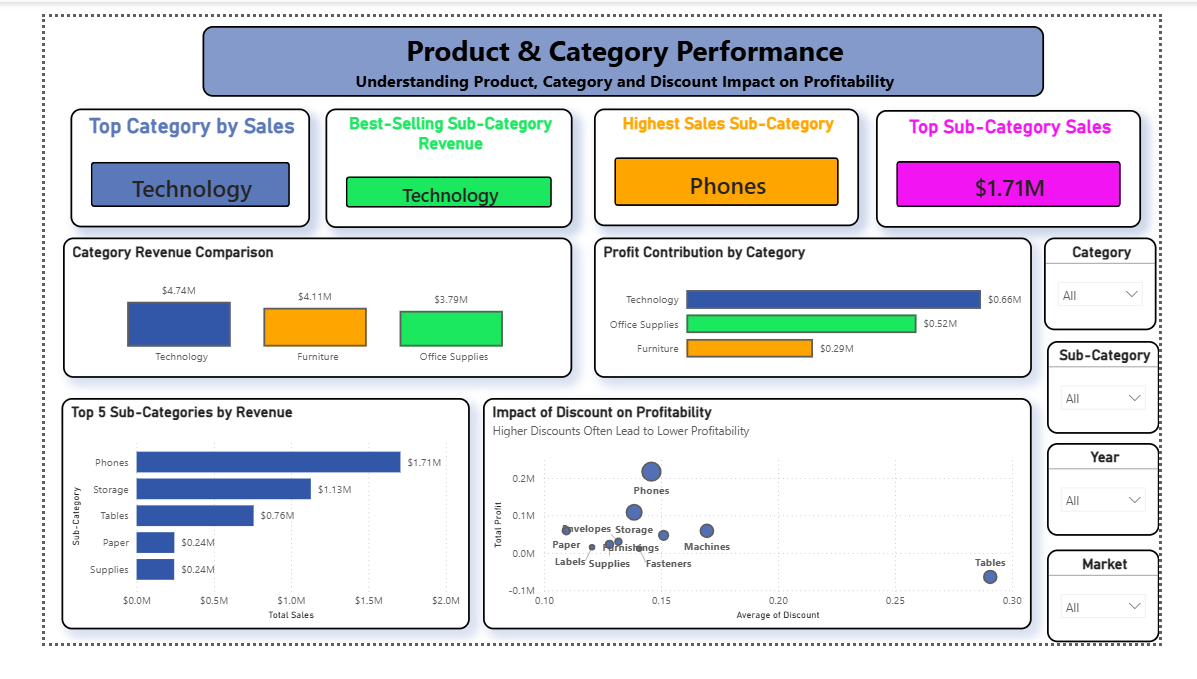

Layout of this report page (visuals, bound fields, positions):
{"tool":"powerbi","page":{"name":"Product Performance","canvas":[1280,720],"ordinal":2},"visuals":[{"type":"cardVisual","title":"Top Category by Sales","fields":{"Data":["Measures (2).Top_Cat_Sales"]},"box":[29,104.8,275.2,136.8],"z":0},{"type":"cardVisual","title":"Best-Selling Sub-Category Revenue","fields":{"Data":["Measures (2).Top_Cat_Profit"]},"box":[322.6,104.8,283.9,137.1],"z":1000},{"type":"cardVisual","title":"Highest Sales Sub-Category","fields":{"Data":["Measures (2).Highest Sales Sub-Category"]},"box":[630.6,104.8,304.8,135.5],"z":2000},{"type":"cardVisual","title":"Top Sub-Category Sales","fields":{"Data":["Measures (2).Top Sub-Category Sales"]},"box":[954.8,106.5,304.8,135.5],"z":3000},{"type":"barChart","title":"Top 5 Sub-Categories by Revenue","fields":{"Y":["Measures (2).Total Sales"],"Category":["Global_Superstore.Sub-Category"]},"box":[19.4,437.1,469.4,266.1],"z":4000},{"type":"clusteredColumnChart","title":"Category Revenue Comparison","fields":{"Y":["Measures (2).Total Sales"],"Category":["Global_Superstore.Category"]},"box":[21,253.2,585.5,161.3],"z":5000},{"type":"clusteredBarChart","title":"Profit Contribution by Category","fields":{"Y":["Measures (2).Total Profit"],"Category":["Global_Superstore.Category"]},"box":[630.6,253.2,503.2,161.3],"z":6000},{"type":"textbox","title":"Product & Category Performance","box":[181.3,11.1,967.1,81.1],"z":7000},{"type":"slicer","title":"Category","fields":{"Values":["Global_Superstore.Category"]},"box":[1148.4,253.2,129,106.5],"z":9000},{"type":"slicer","title":"Sub-Category","fields":{"Values":["Global_Superstore.Sub-Category"]},"box":[1151.6,372.6,129,106.5],"z":10000},{"type":"slicer","title":"Year","fields":{"Values":["Global_Superstore.Order Year"]},"box":[1151.6,490.3,129,106.5],"z":11000},{"type":"scatterChart","title":"Impact of Discount on Profitability","fields":{"X":["Avg(Global_Superstore.Discount)"],"Category":["Global_Superstore.Sub-Category"],"Y":["Measures (2).Total Profit"],"Size":["Measures (2).Total Sales"]},"box":[503.2,437.1,630.6,266.1],"z":11001},{"type":"slicer","title":"Market","fields":{"Values":["Global_Superstore.Market"]},"box":[1151.6,612.9,129,106.5],"z":11002}]}

Visuals, with their boxes in screenshot pixels (x1, y1, x2, y2), scaled from the page's 1280x720 canvas onto the 1197x679 screenshot:
"Top Category by Sales" cardVisual: [left=27, top=99, right=284, bottom=228]
"Best-Selling Sub-Category Revenue" cardVisual: [left=302, top=99, right=567, bottom=228]
"Highest Sales Sub-Category" cardVisual: [left=590, top=99, right=875, bottom=227]
"Top Sub-Category Sales" cardVisual: [left=893, top=100, right=1178, bottom=228]
"Top 5 Sub-Categories by Revenue" barChart: [left=18, top=412, right=457, bottom=663]
"Category Revenue Comparison" clusteredColumnChart: [left=20, top=239, right=567, bottom=391]
"Profit Contribution by Category" clusteredBarChart: [left=590, top=239, right=1060, bottom=391]
"Product & Category Performance" textbox: [left=170, top=10, right=1074, bottom=87]
"Category" slicer: [left=1074, top=239, right=1195, bottom=339]
"Sub-Category" slicer: [left=1077, top=351, right=1196, bottom=452]
"Year" slicer: [left=1077, top=462, right=1196, bottom=563]
"Impact of Discount on Profitability" scatterChart: [left=471, top=412, right=1060, bottom=663]
"Market" slicer: [left=1077, top=578, right=1196, bottom=678]
